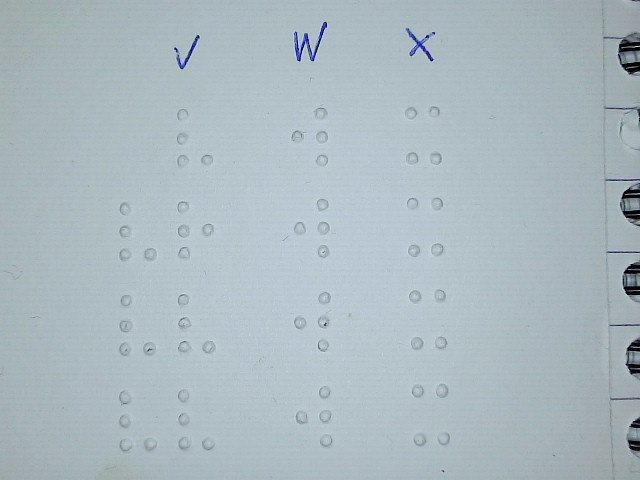V: (176, 386, 217, 451), (117, 388, 158, 453), (175, 105, 216, 167), (118, 199, 159, 261), (177, 292, 218, 354)
W: (289, 105, 330, 167), (291, 196, 332, 258), (292, 290, 333, 352), (293, 385, 334, 447)
X: (403, 104, 444, 166), (405, 195, 446, 257), (407, 288, 448, 350), (410, 383, 451, 445)
